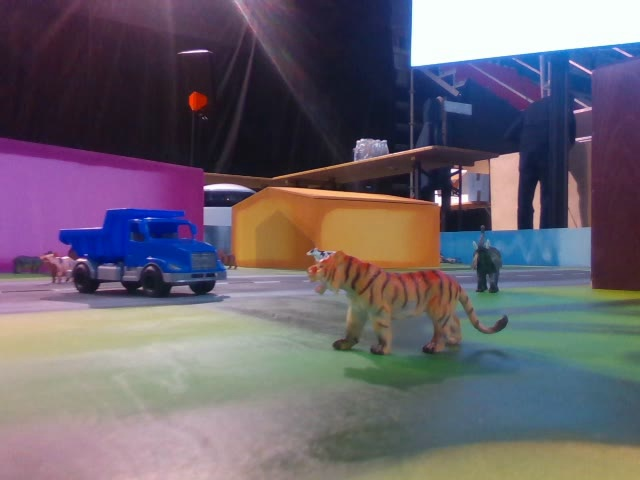toy: (307, 251, 509, 354), (474, 224, 503, 293)
